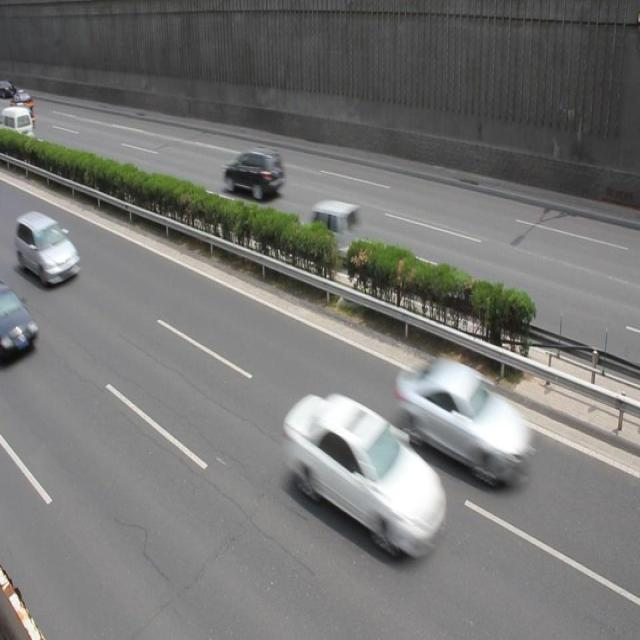car: (284, 394, 450, 560), (398, 361, 536, 488), (15, 209, 82, 288), (298, 202, 364, 260), (221, 148, 284, 202), (0, 284, 40, 364)
